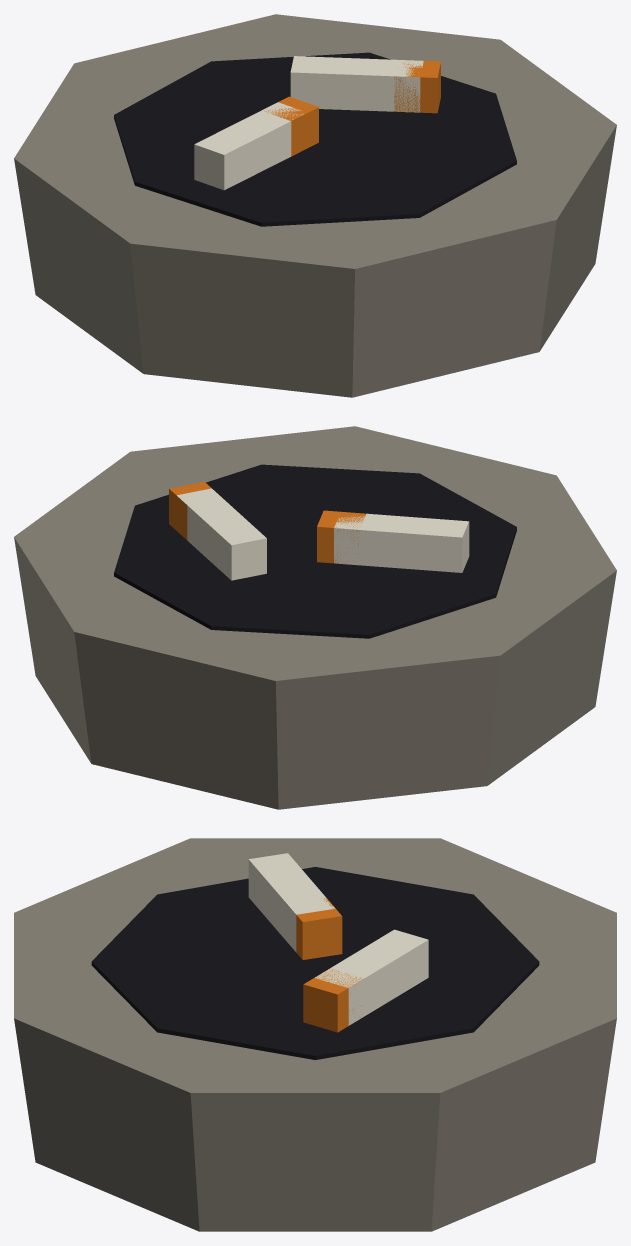
The model's file is ashtray.glb.
3 views of the same model, one above another, from view 1: azimuth 30°, elevation 25°; view 2: azimuth 150°, elevation 25°; view 3: azimuth 270°, elevation 25° (orthographic). The views are drawn at different scales.
Parts seen in each view (by area): view 1: ashtray; view 2: ashtray; view 3: ashtray.
Part boxes in pixels (x1,y1,x2,y2): ashtray: (14, 14, 616, 397); ashtray: (14, 426, 616, 809); ashtray: (14, 838, 616, 1231).
Size of the model in its own units: 0.1293 by 0.045 by 0.1293.
